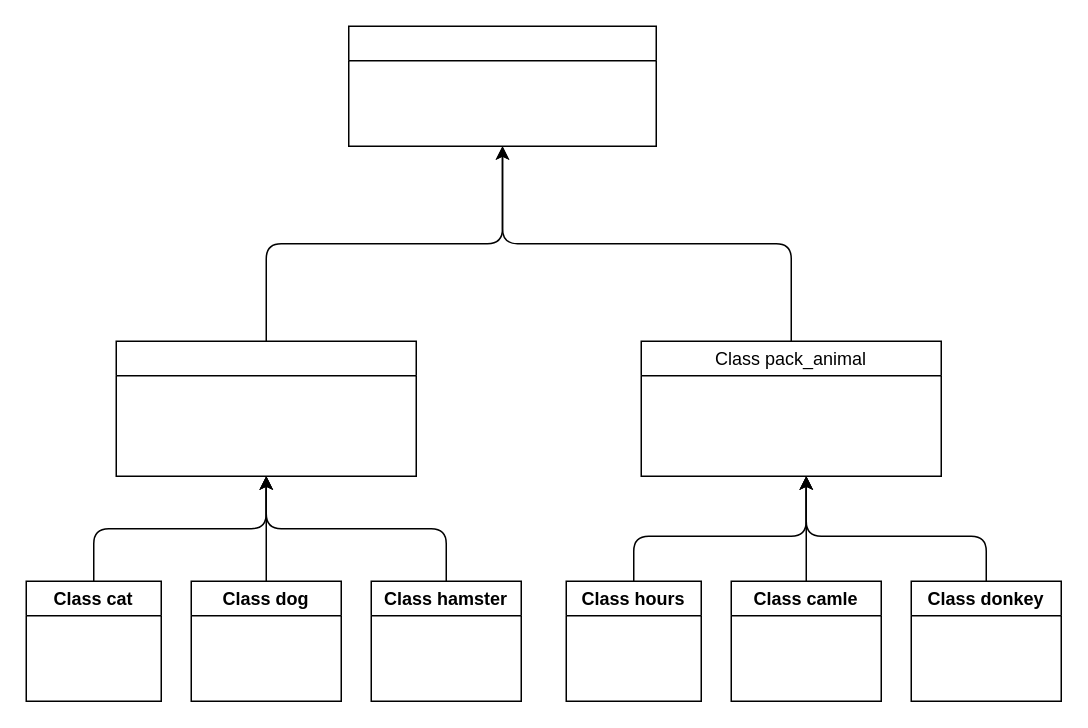
Some shapes in this 1088 by 728 pixel diagram are drawn without their labels. The box of each missing label's shape, as (x1, y1, x2, y2) in pixels:
Class animal: (347, 25, 656, 146)
Class home_animal: (115, 340, 416, 476)
